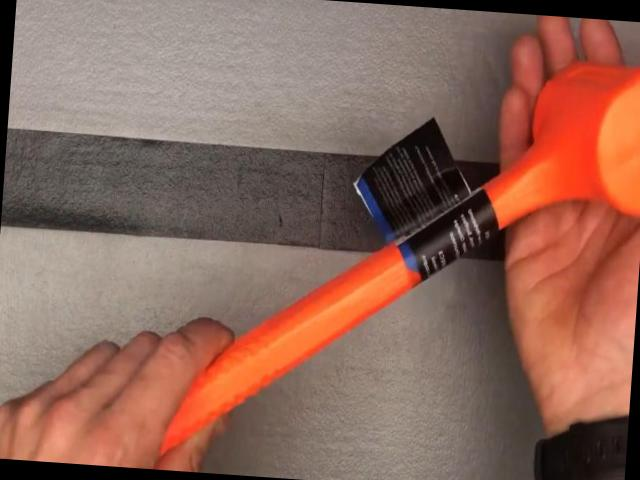hammer: (44, 28, 640, 480)
